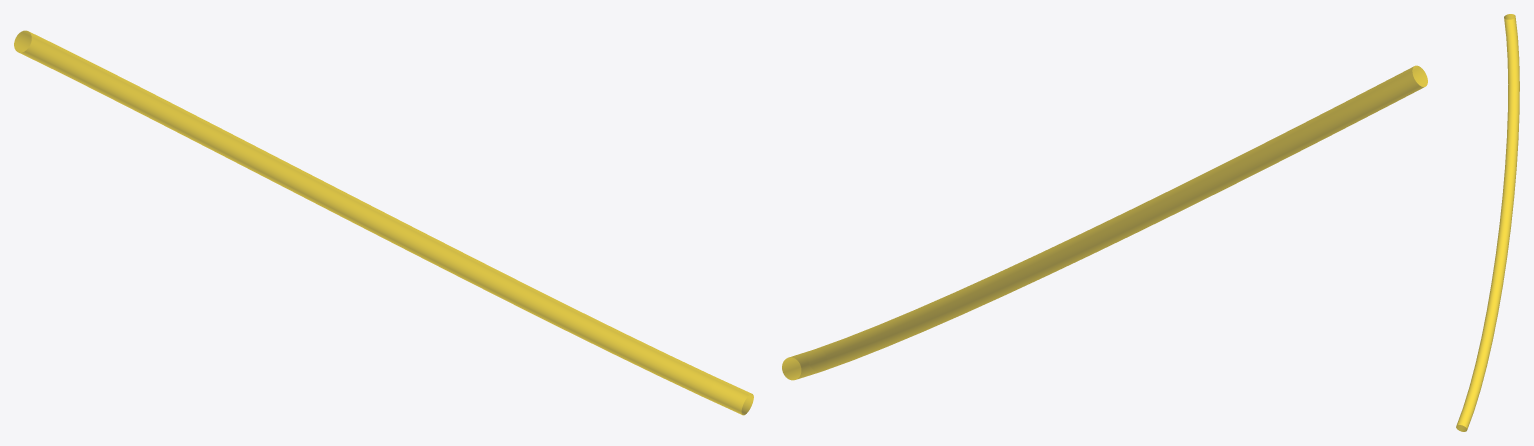
The model's file is Event_100608114_track_24.fbx.
3 views of the same model, side by side, from view 1: azimuth 30°, elevation 25°; view 2: azimuth 150°, elevation 25°; view 3: azimuth 270°, elevation 25° (orthographic). The views are drawn at different scales.
Parts seen in each view (by area): view 1: Model; view 2: Model; view 3: Model.
Part boxes in pixels (<box>): Model: <box>14,30,753,415</box>; Model: <box>782,65,1427,380</box>; Model: <box>1456,14,1519,431</box>.
Size of the model in its own units: 1.35 by 0.9583 by 0.217.
